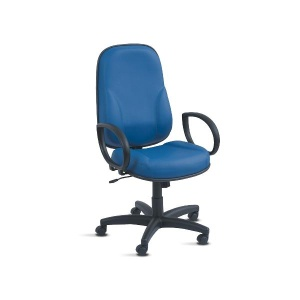chair: (94, 43, 221, 256)
